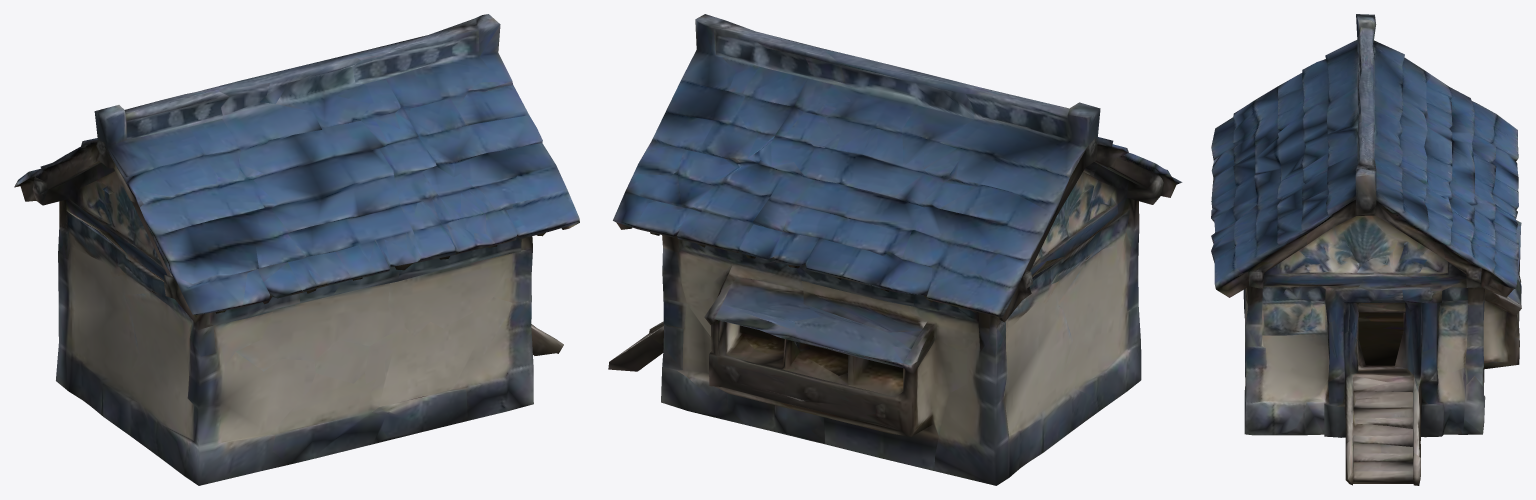
The model's file is coop_0.glb.
The picture shows the model from 3 angles, left to right: view 1: azimuth 30°, elevation 25°; view 2: azimuth 150°, elevation 25°; view 3: azimuth 270°, elevation 25°; orthographic projection. The views are drawn at different scales.
Visible parts, largest first — view 1: tripo_node_5f1ef6ec-382a-497c-8f4a-978bdf5cd52b; view 2: tripo_node_5f1ef6ec-382a-497c-8f4a-978bdf5cd52b; view 3: tripo_node_5f1ef6ec-382a-497c-8f4a-978bdf5cd52b.
Boxes of the visible parts, box(x1,y1,x2,y2) form: tripo_node_5f1ef6ec-382a-497c-8f4a-978bdf5cd52b: box(14, 14, 579, 485); tripo_node_5f1ef6ec-382a-497c-8f4a-978bdf5cd52b: box(608, 14, 1182, 485); tripo_node_5f1ef6ec-382a-497c-8f4a-978bdf5cd52b: box(1211, 14, 1521, 485).
Size of the model in its own units: 0.9797 by 0.7118 by 0.6937.
Materials: 1 (1 with a texture image).
